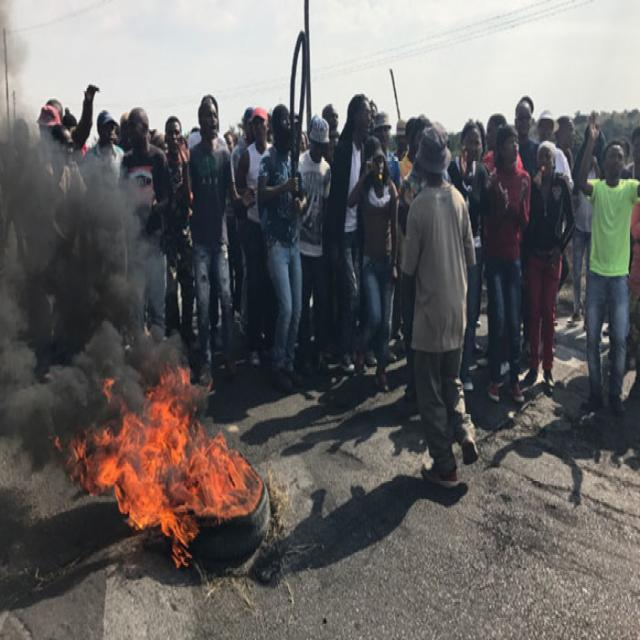Fire: (116, 423, 234, 522)
Smoke: (7, 172, 136, 396)
